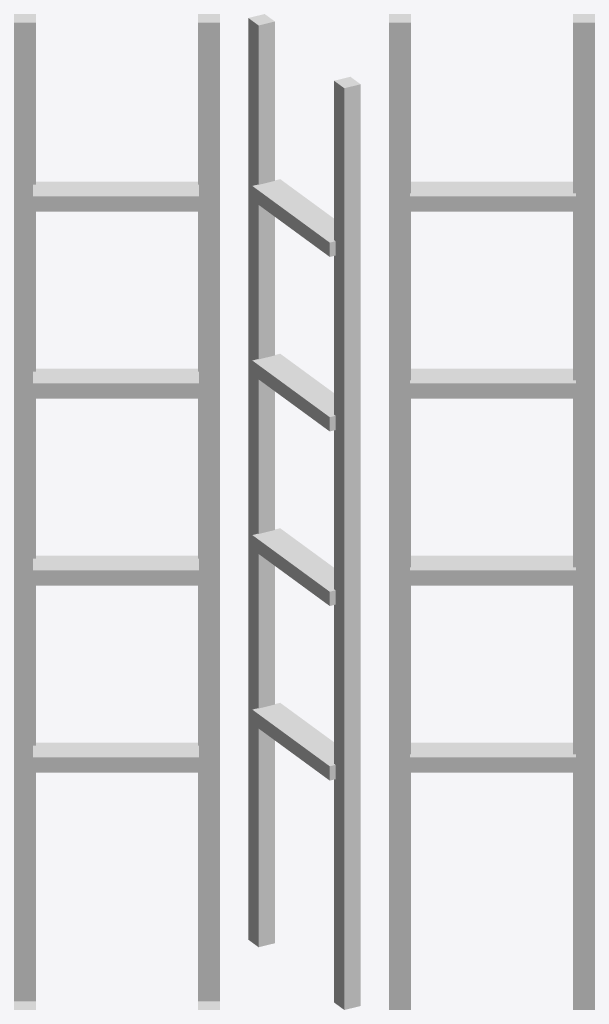
Rendered from bunk_bed_st .fbx.
3 views of the same model, side by side, from view 1: azimuth 90°, elevation 25°; view 2: azimuth 210°, elevation 25°; view 3: azimuth 270°, elevation 25° (orthographic). The views are drawn at different scales.
Parts seen in each view (by area): view 1: bunk_bed_st; view 2: bunk_bed_st; view 3: bunk_bed_st.
Boxes of the visible parts, <box> form: bunk_bed_st: <box>14,14,219,1009</box>; bunk_bed_st: <box>248,14,360,1009</box>; bunk_bed_st: <box>389,14,594,1009</box>.
Bounding box in the file's own units: 0.0892 × 2.82 × 0.5315.
